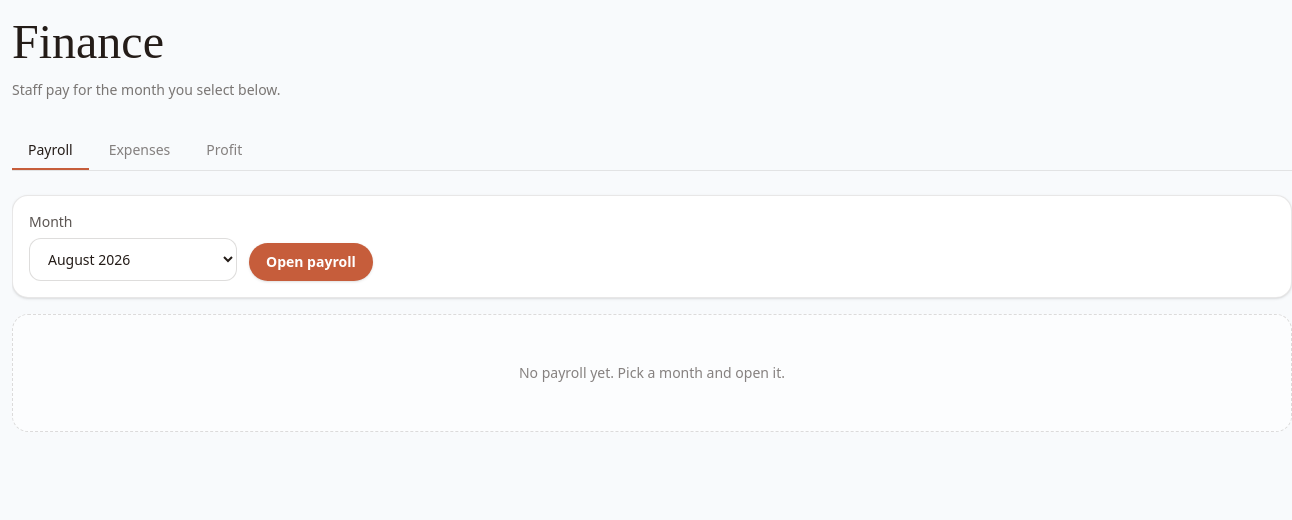
FinanceView — the phone (md:hidden) expense log › carries the same running total as the table foot
The width and height of the screenshot is (1292, 520).
Click the button "Expenses" at {"x": 140, "y": 151}, box [93,132,186,170]
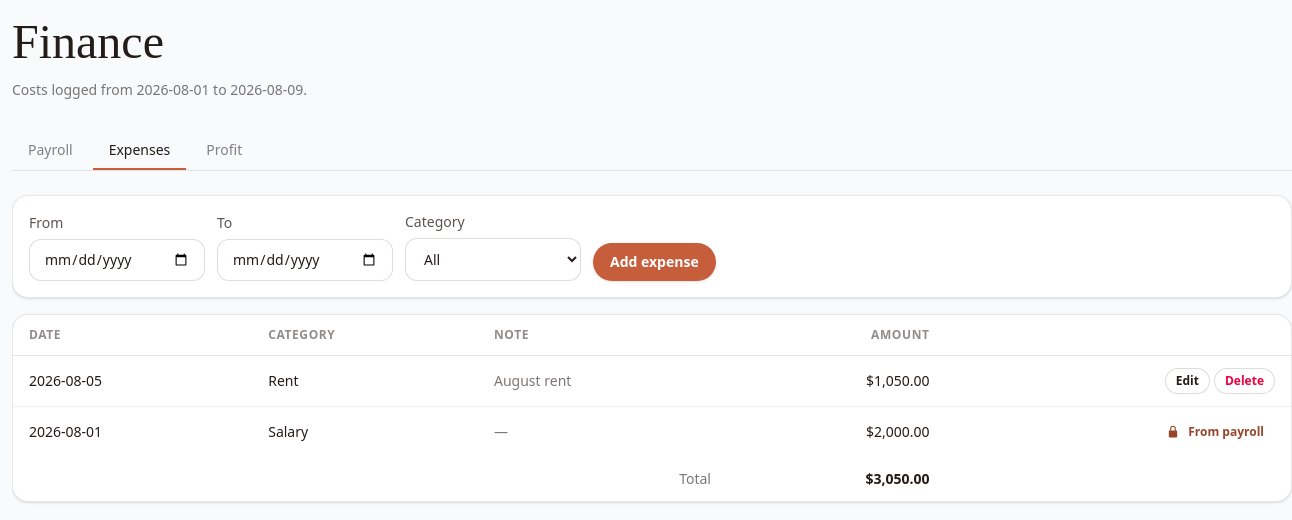
Result: the element that starts with "Date" shows "$3,050.00" at [866,469,930,488]
